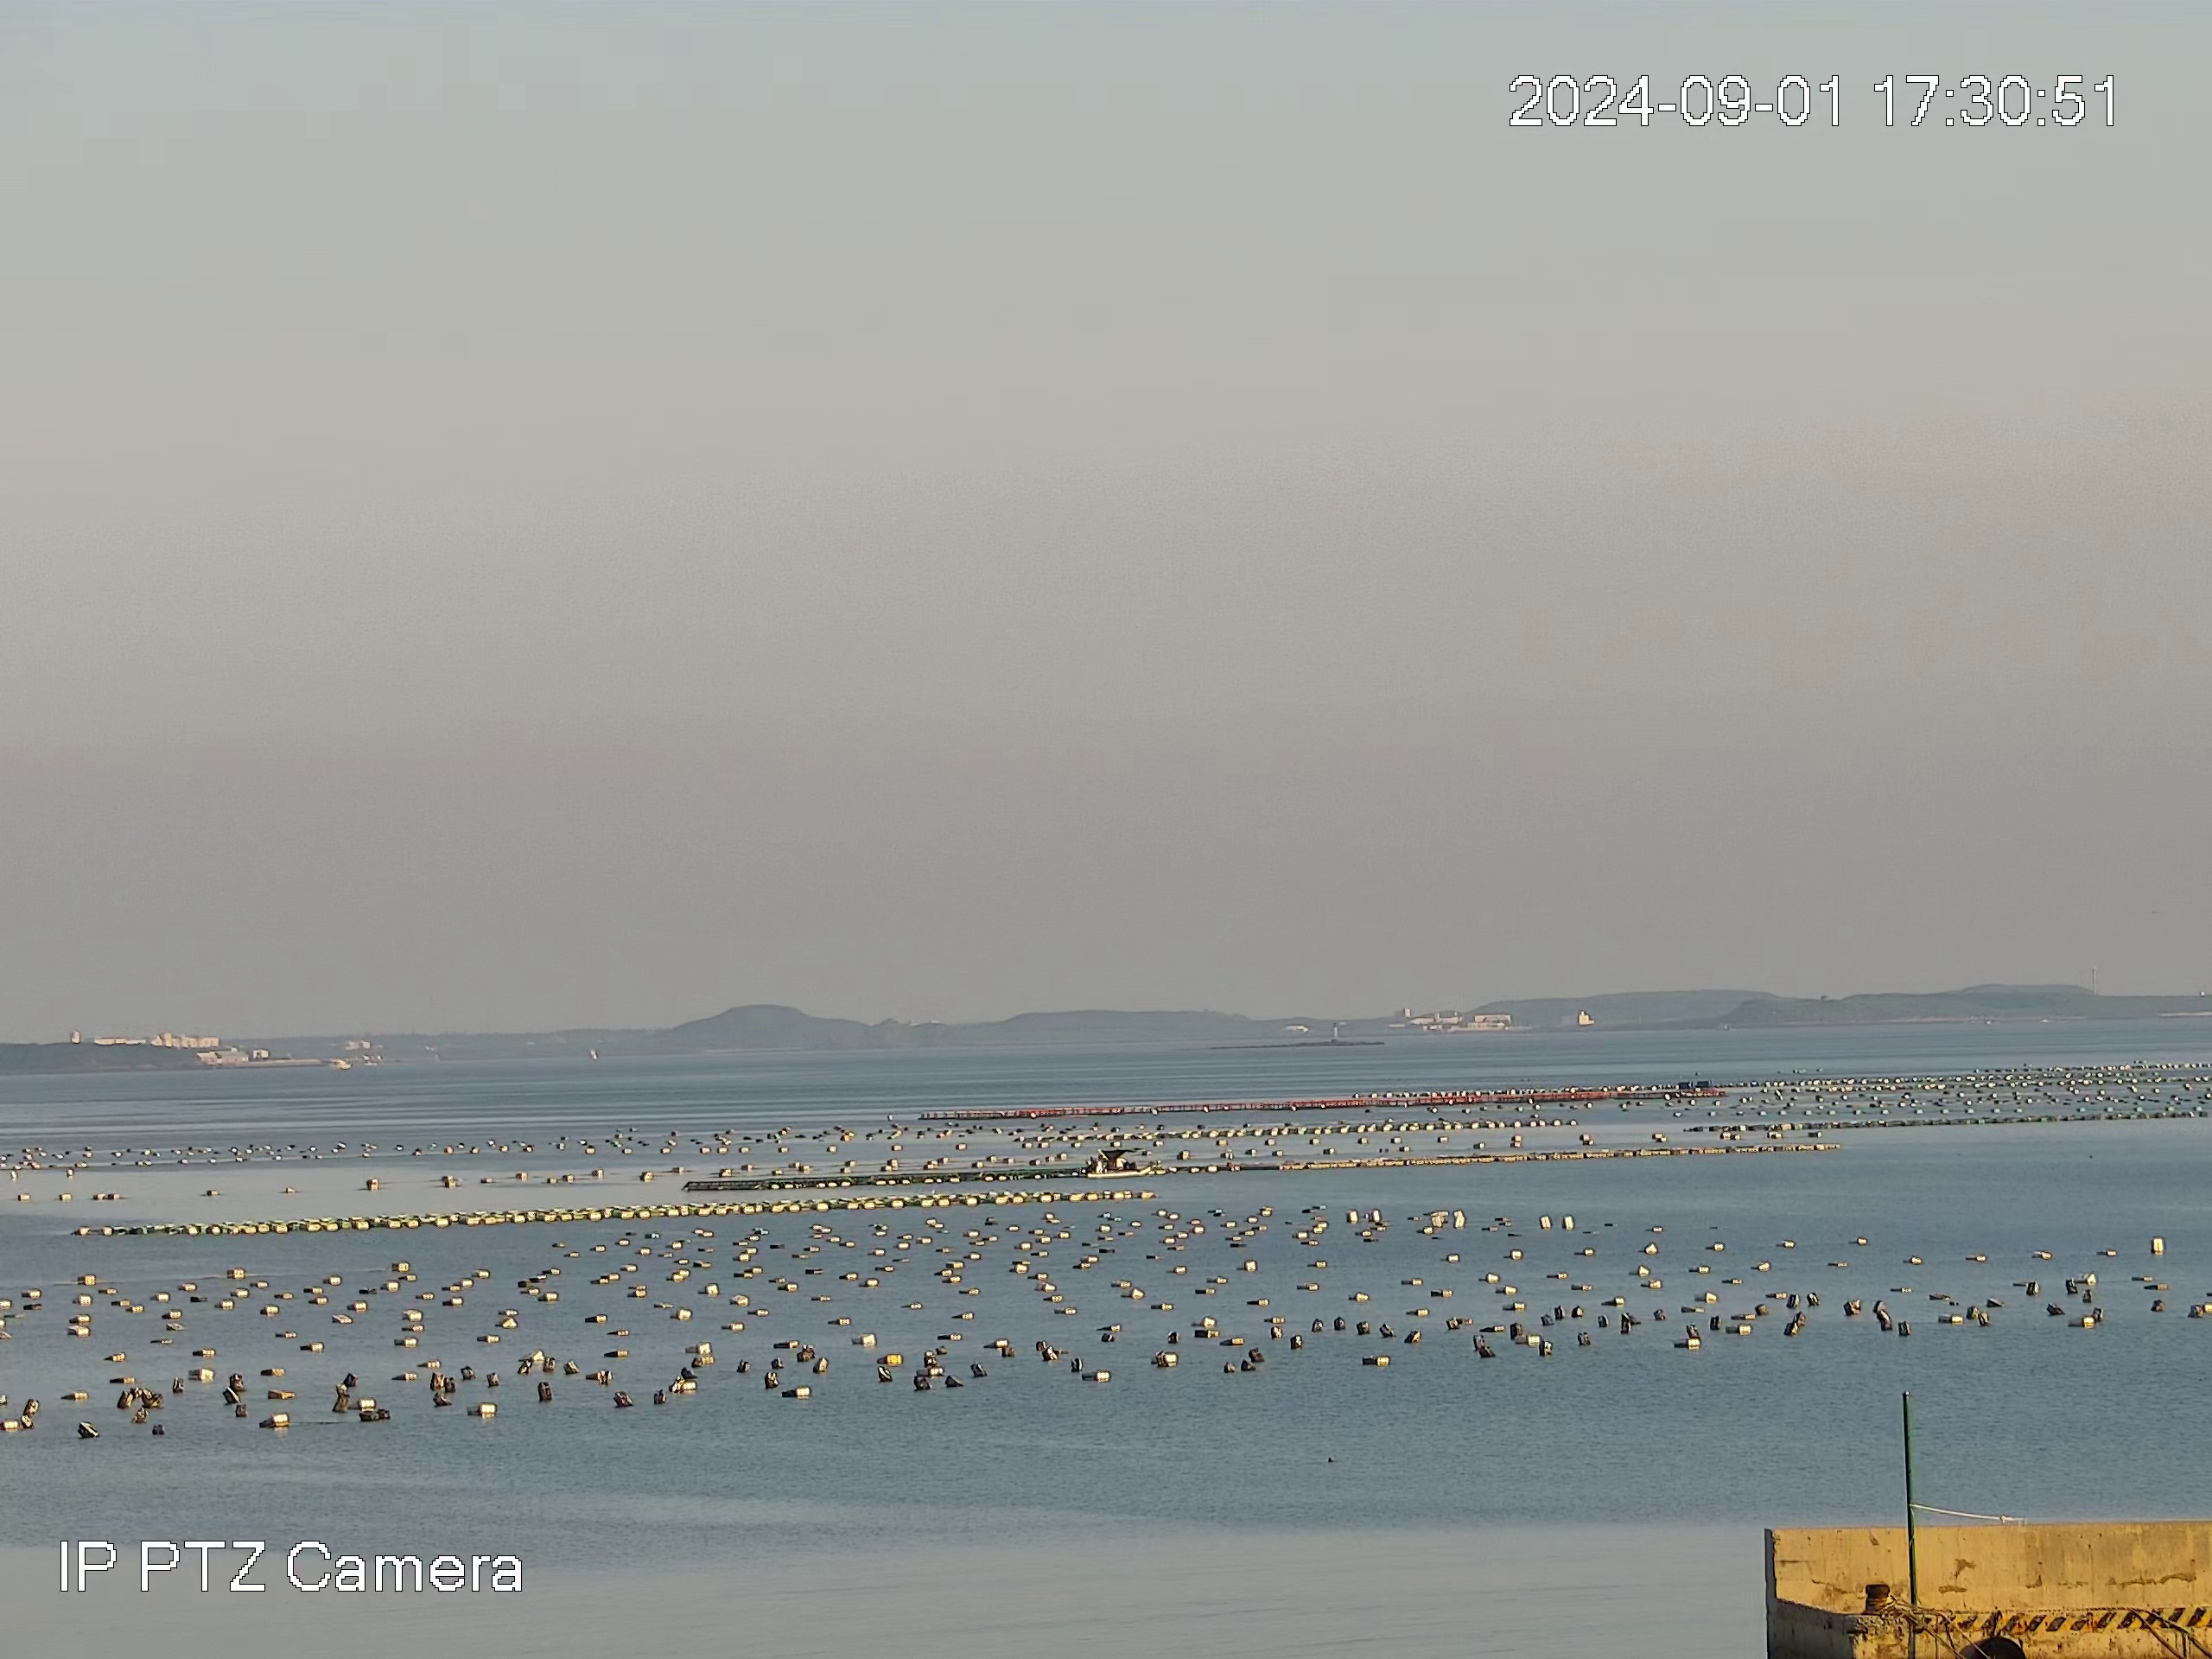boat: (1085, 1143, 1157, 1180)
